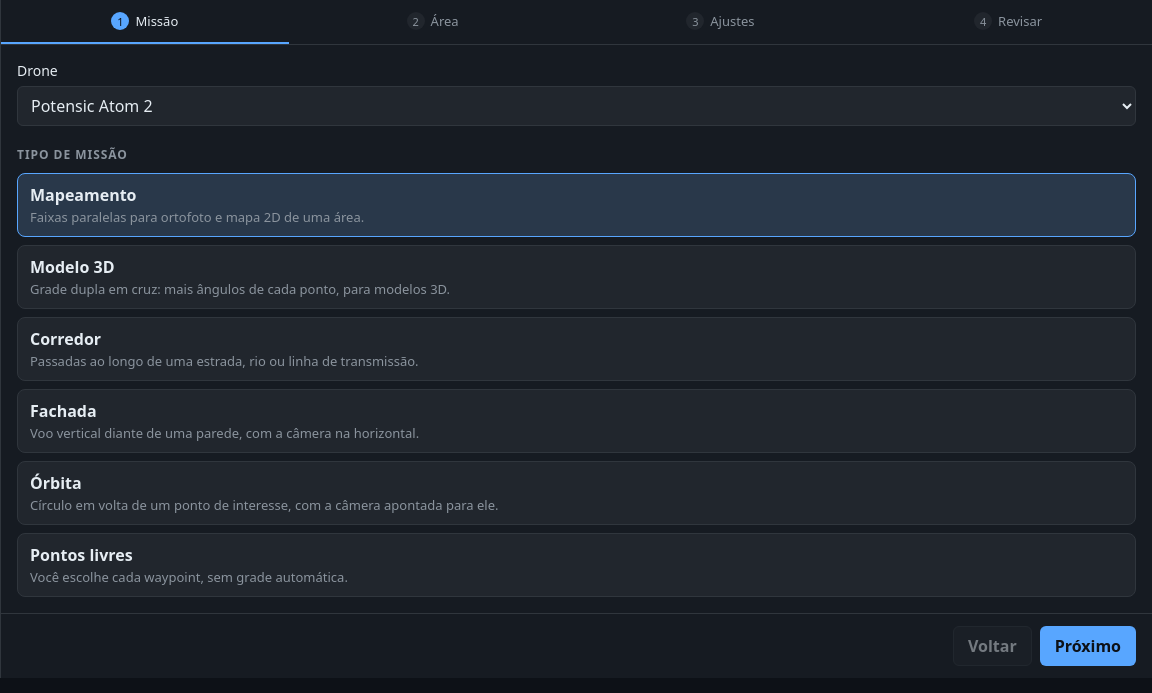
Test: Panel › shows the settings of the current mode only
Click the button "3 Ajustes". click: [720, 22]
box: [576,0,864,44]
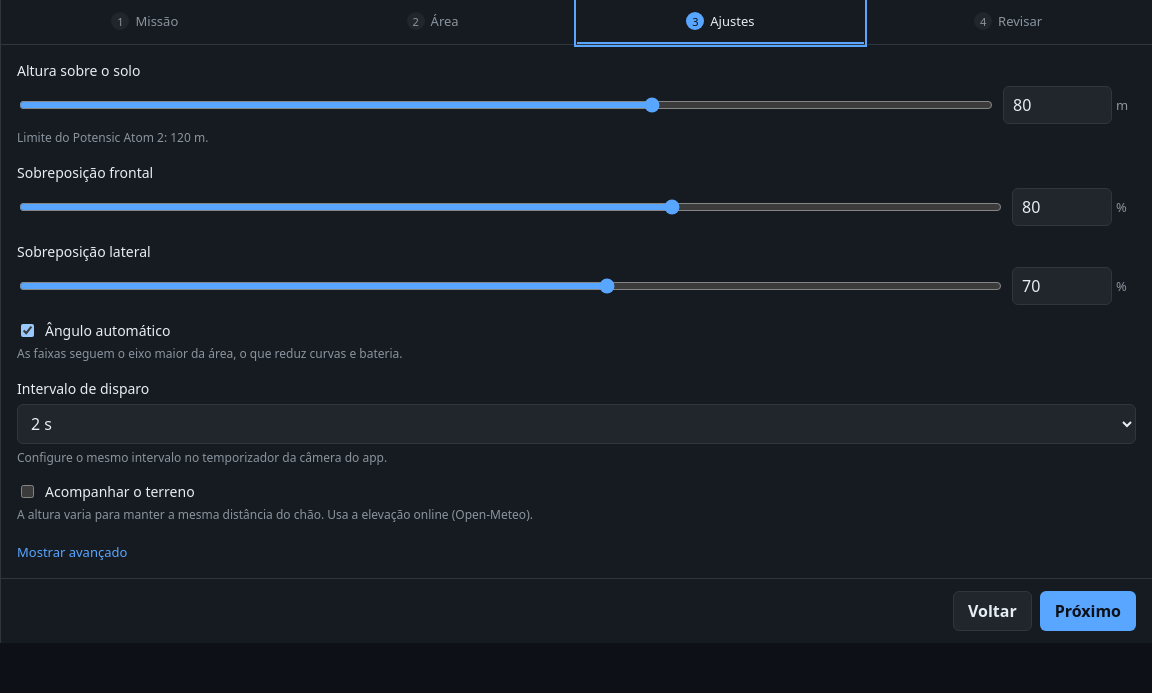
Expected: the number field labelled "Sobreposição frontal" is shown, [1012,188,1112,226]
Expected: the checkbox labelled "Ângulo automático" is checked
Click the checkbox labelled "Ângulo automático". click: [28, 330]
box: [21,324,34,337]
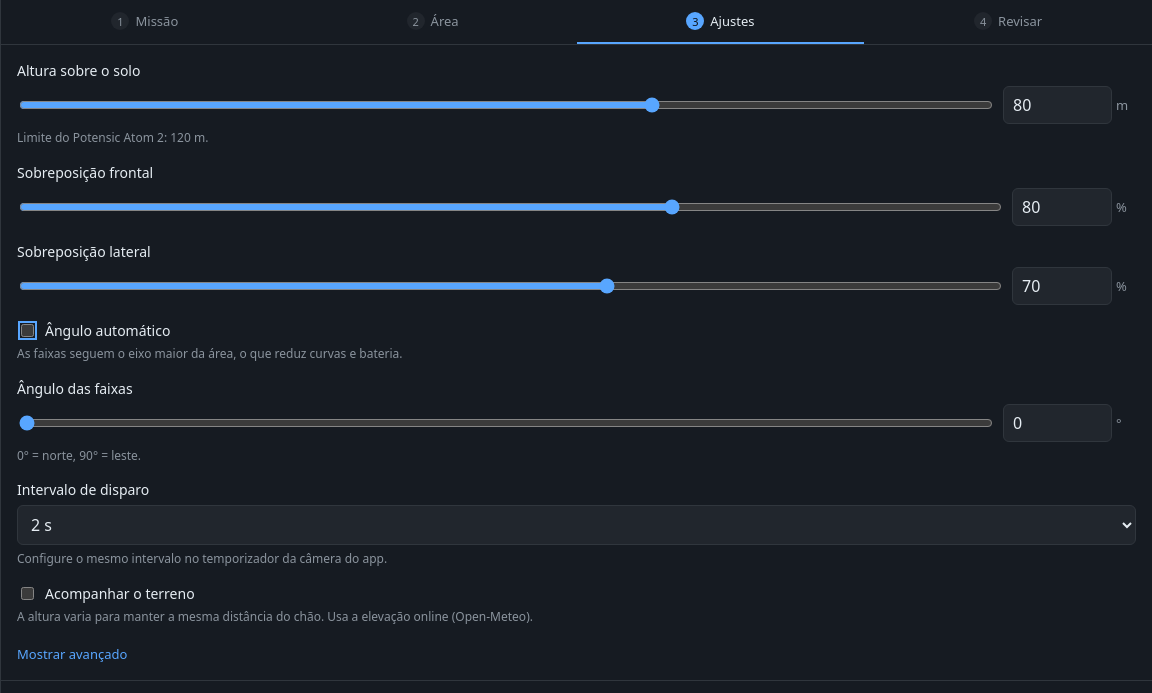
Expected: the number field labelled "Ângulo das faixas" is shown, [1003,404,1112,442]
